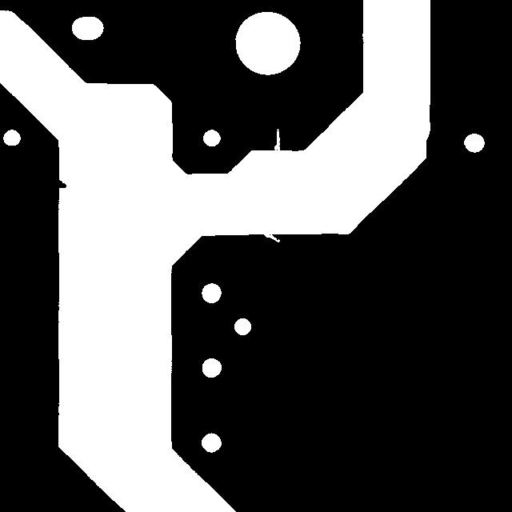mousebite: (266, 121, 287, 161), (255, 224, 287, 250)
pin-hole: (226, 310, 258, 342)
spur: (49, 172, 74, 195)
